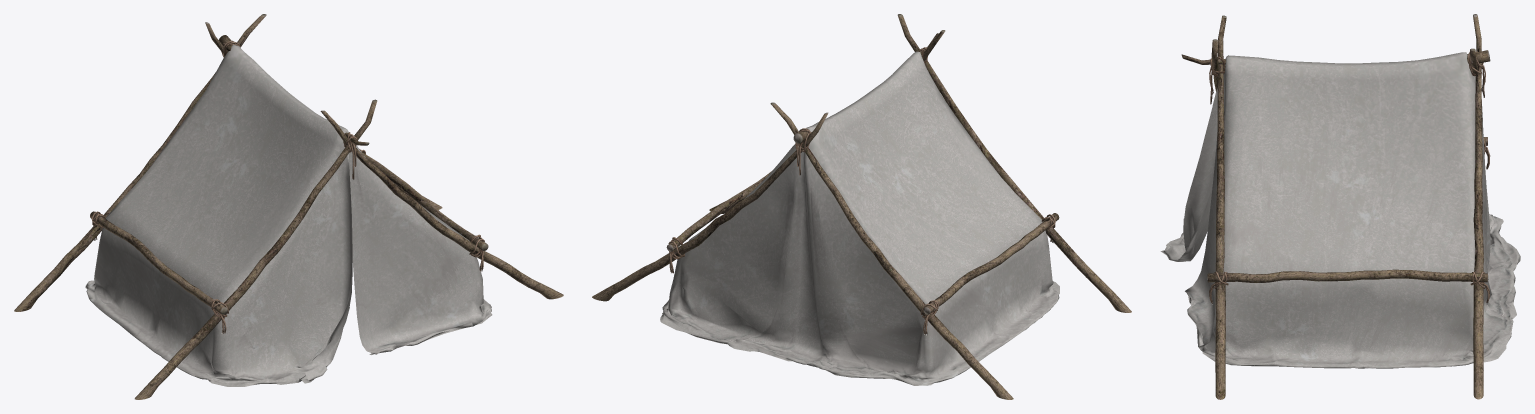
3 renders of one model, left to right at view 1: azimuth 30°, elevation 25°; view 2: azimuth 150°, elevation 25°; view 3: azimuth 270°, elevation 25°, orthographic. The views are drawn at different scales.
Parts seen in each view (by area): view 1: Tent, Sticks, Ropes; view 2: Tent, Sticks, Ropes; view 3: Tent, Sticks, Ropes.
Part boxes in pixels (box(x1,y1,x2,y2)): Tent: box(85, 44, 492, 386); Sticks: box(14, 14, 563, 399); Ropes: box(91, 40, 484, 334); Tent: box(660, 51, 1059, 385); Sticks: box(592, 14, 1131, 399); Ropes: box(668, 47, 1055, 335); Tent: box(1160, 52, 1520, 368); Sticks: box(1181, 14, 1490, 399); Ropes: box(1209, 51, 1490, 304).
Bounding box in the file's own units: 418 × 227 × 284.
3 materials, 3 textured.
